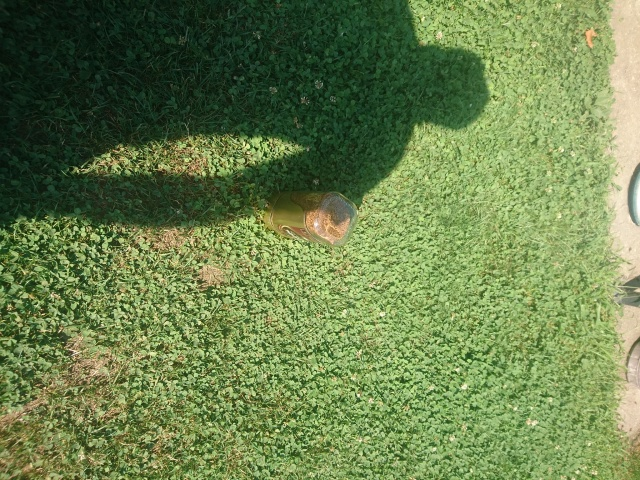Nescafe Gold 225g: (259, 187, 362, 251)
